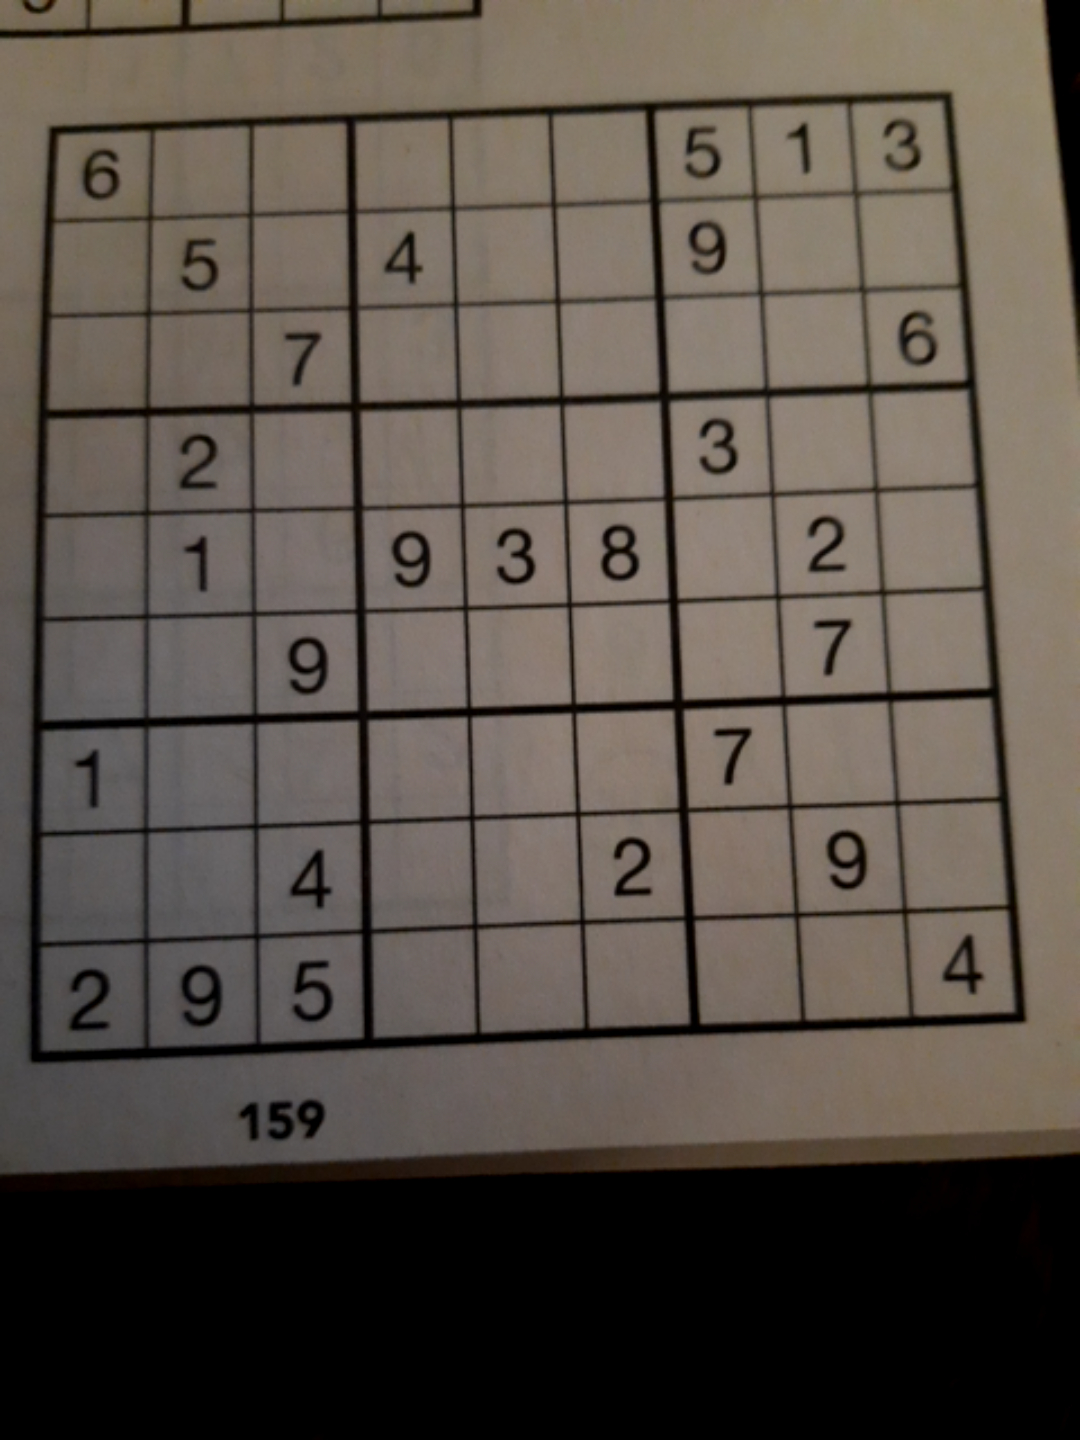sudoku: (27, 97, 1022, 1055)
